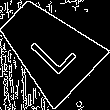L_NW: (20, 19, 76, 76)
